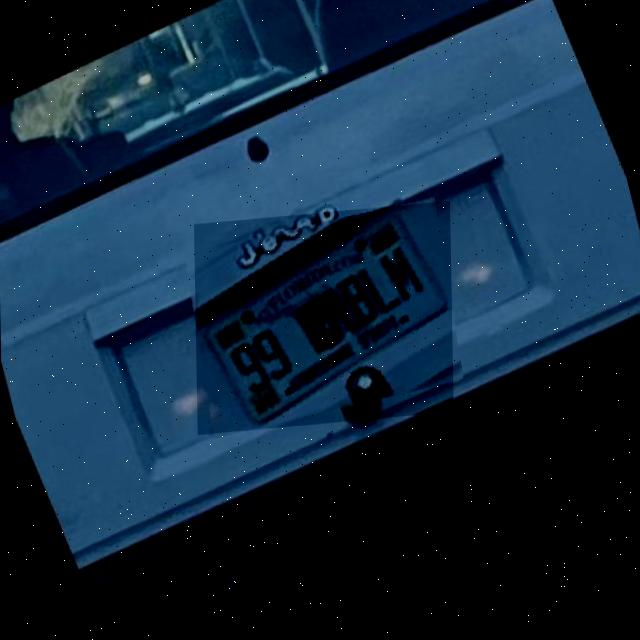LicensePlate: (196, 212, 451, 434)
